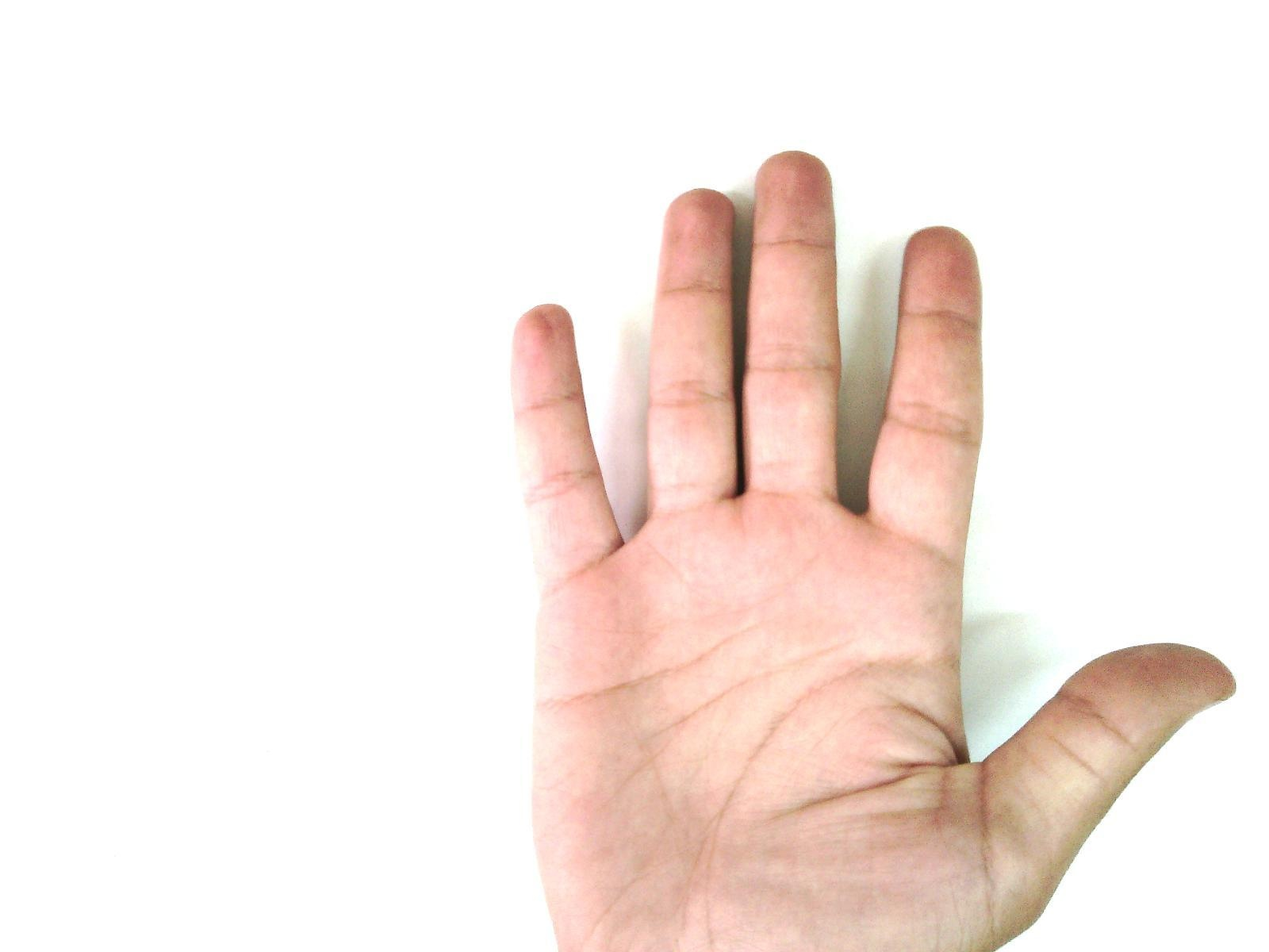open_palm: (506, 150, 1238, 952)
